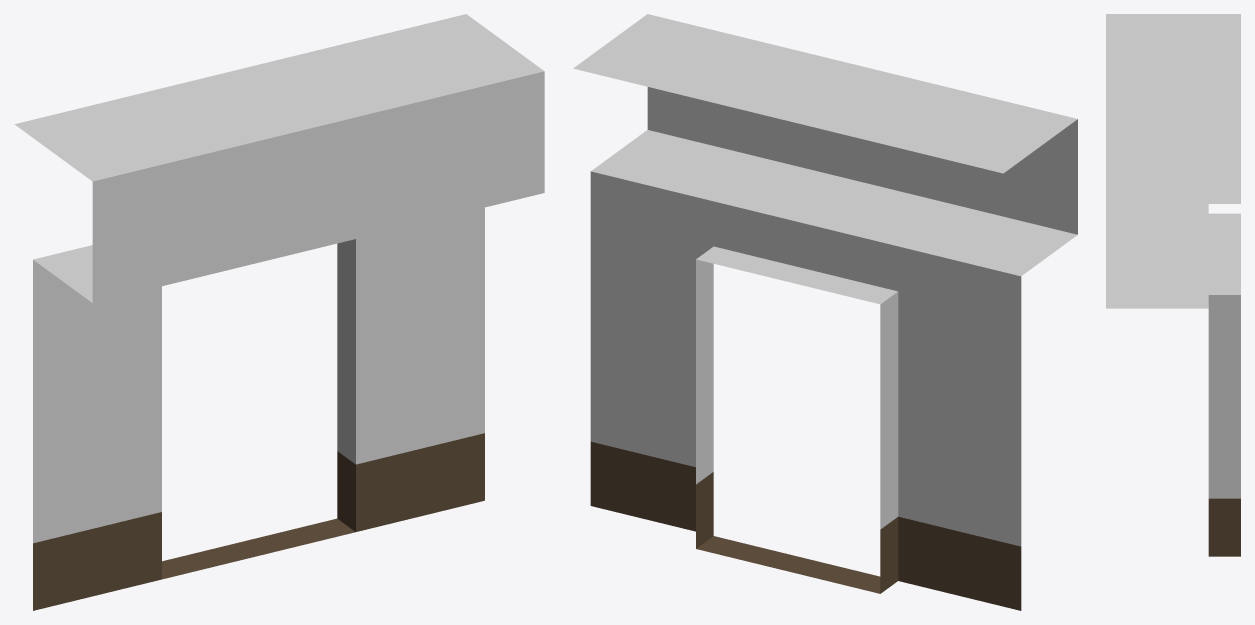
File: M_WallDoorH150SWhite80-3.fbx
The picture shows the model from 3 angles, left to right: view 1: azimuth 30°, elevation 25°; view 2: azimuth 150°, elevation 25°; view 3: azimuth 270°, elevation 25°; orthographic projection. The views are drawn at different scales.
Visible parts, largest first — view 1: M_WallDoorH150SWhite80-3; view 2: M_WallDoorH150SWhite80-3; view 3: M_WallDoorH150SWhite80-3.
Part boxes in pixels (x1=…): M_WallDoorH150SWhite80-3: x1=15, y1=14, x2=544, y2=610; M_WallDoorH150SWhite80-3: x1=573, y1=14, x2=1077, y2=610; M_WallDoorH150SWhite80-3: x1=1106, y1=14, x2=1240, y2=556.
Bounding box in the file's own units: 350 × 105 × 350.
